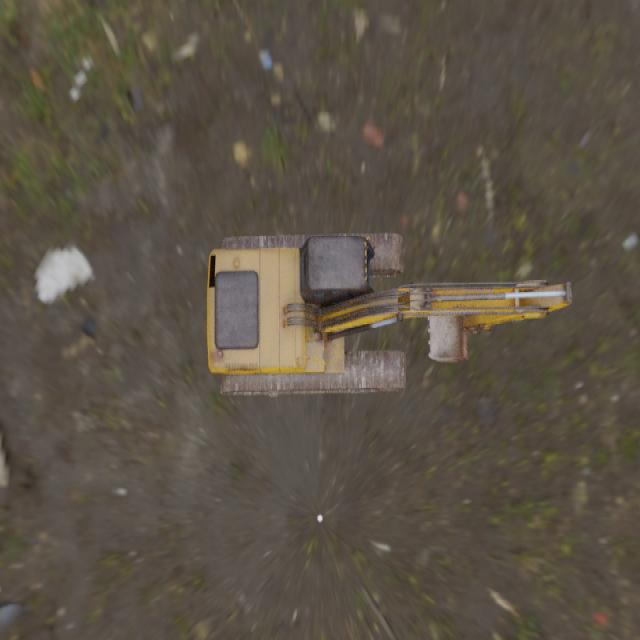excavator: (206, 234, 572, 398)
